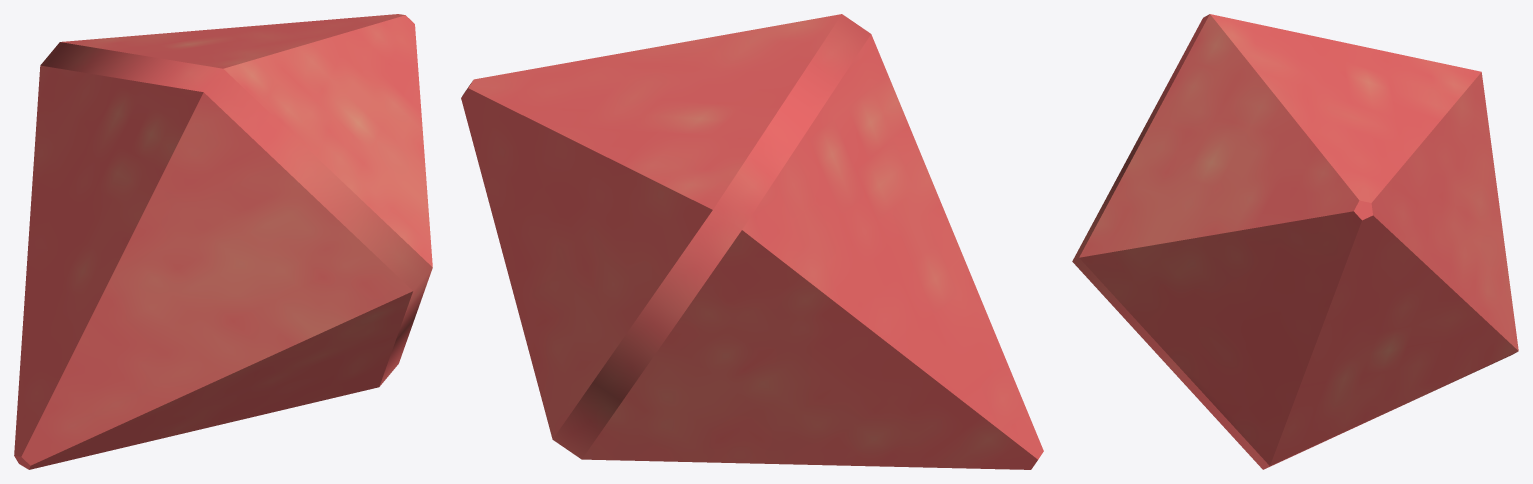
File: Diament.fbx
3 renders of one model, left to right at view 1: azimuth 30°, elevation 25°; view 2: azimuth 150°, elevation 25°; view 3: azimuth 270°, elevation 25°, orthographic. The views are drawn at different scales.
Parts seen in each view (by area): view 1: Cylinder034; view 2: Cylinder034; view 3: Cylinder034.
Part boxes in pixels (left/top/right/bottom): Cylinder034: left=14, top=14, right=432, bottom=469; Cylinder034: left=461, top=14, right=1043, bottom=469; Cylinder034: left=1072, top=14, right=1518, bottom=469.
Size of the model in its own units: 0.048 by 0.0379 by 0.0415.
